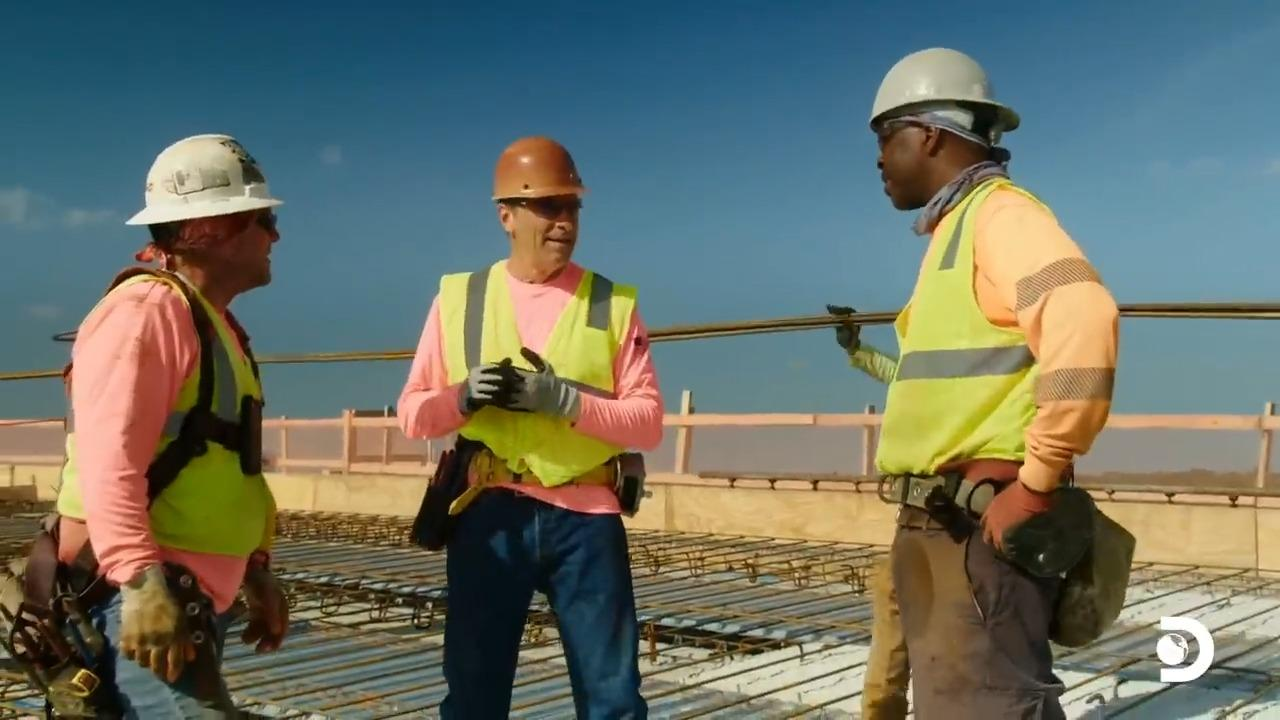Gloves: (118, 586, 194, 672), (468, 352, 555, 409), (247, 581, 297, 657), (983, 483, 1048, 540)
Helmet: (868, 46, 1020, 145), (124, 132, 284, 226), (491, 135, 586, 203)
Person: (830, 46, 1120, 719), (395, 135, 664, 719), (27, 132, 290, 719)
Safety Vest: (93, 296, 266, 533), (914, 248, 1074, 481), (444, 279, 619, 470)
